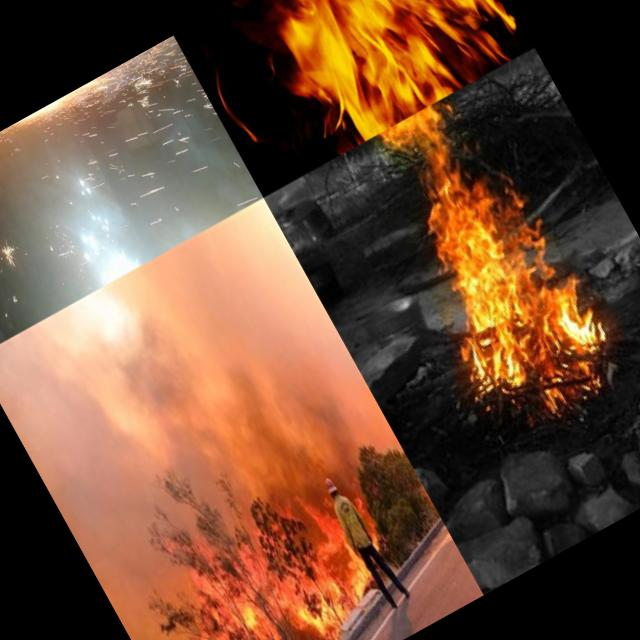fire: (342, 80, 626, 424), (223, 0, 534, 170), (259, 506, 382, 640), (135, 68, 199, 242)
smoke: (221, 369, 375, 531)
